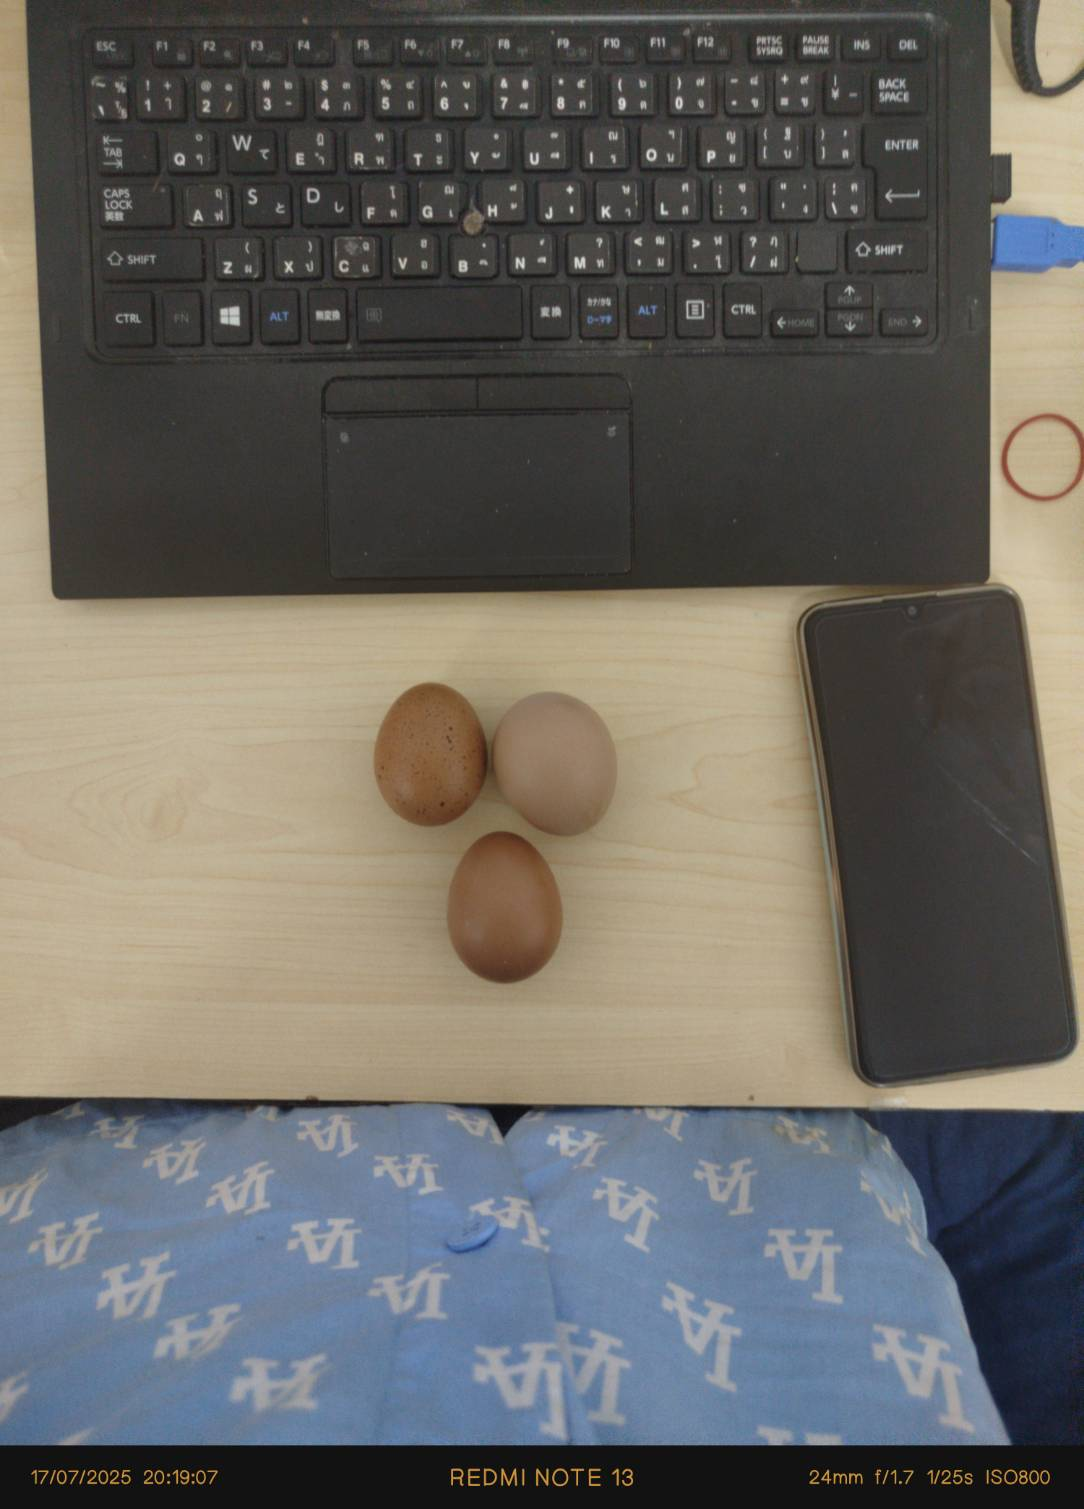egg8: (423, 837, 568, 986), (490, 684, 626, 837), (357, 683, 488, 831)
